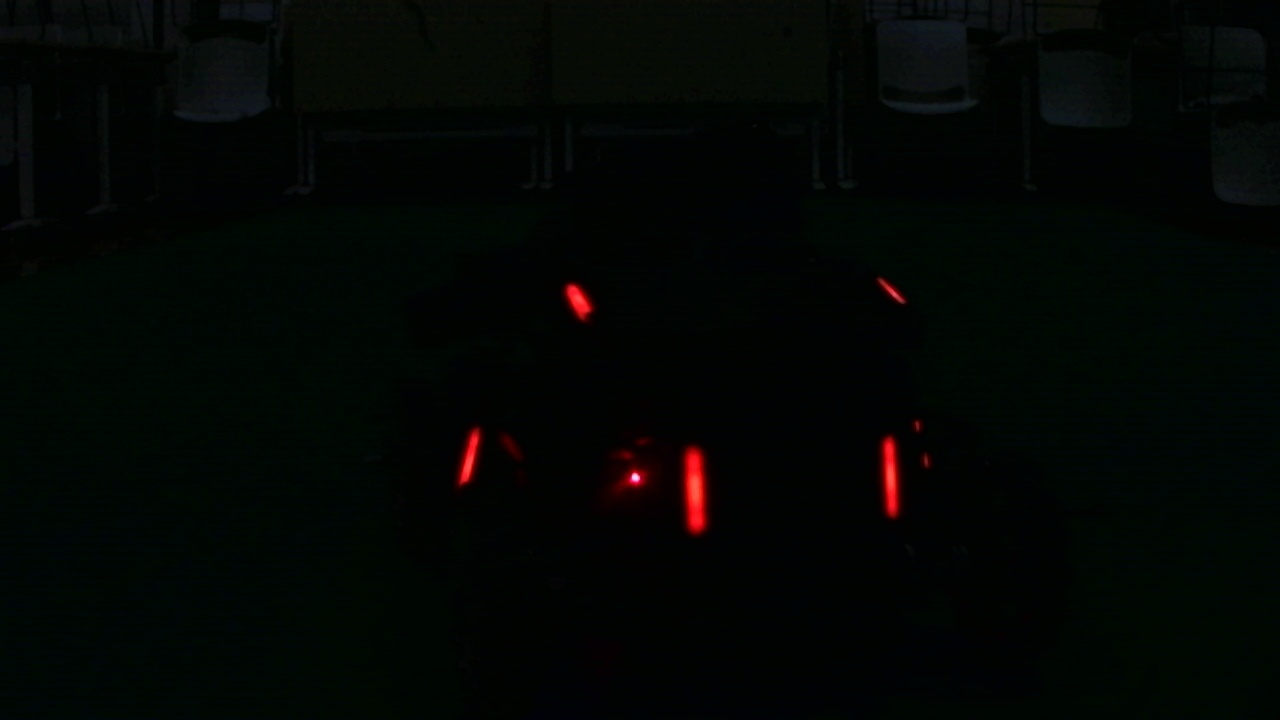lamp: (678, 443, 718, 531), (878, 435, 901, 523), (455, 425, 481, 491)
notpair1: (458, 426, 707, 531)
pair1: (681, 433, 901, 535)
